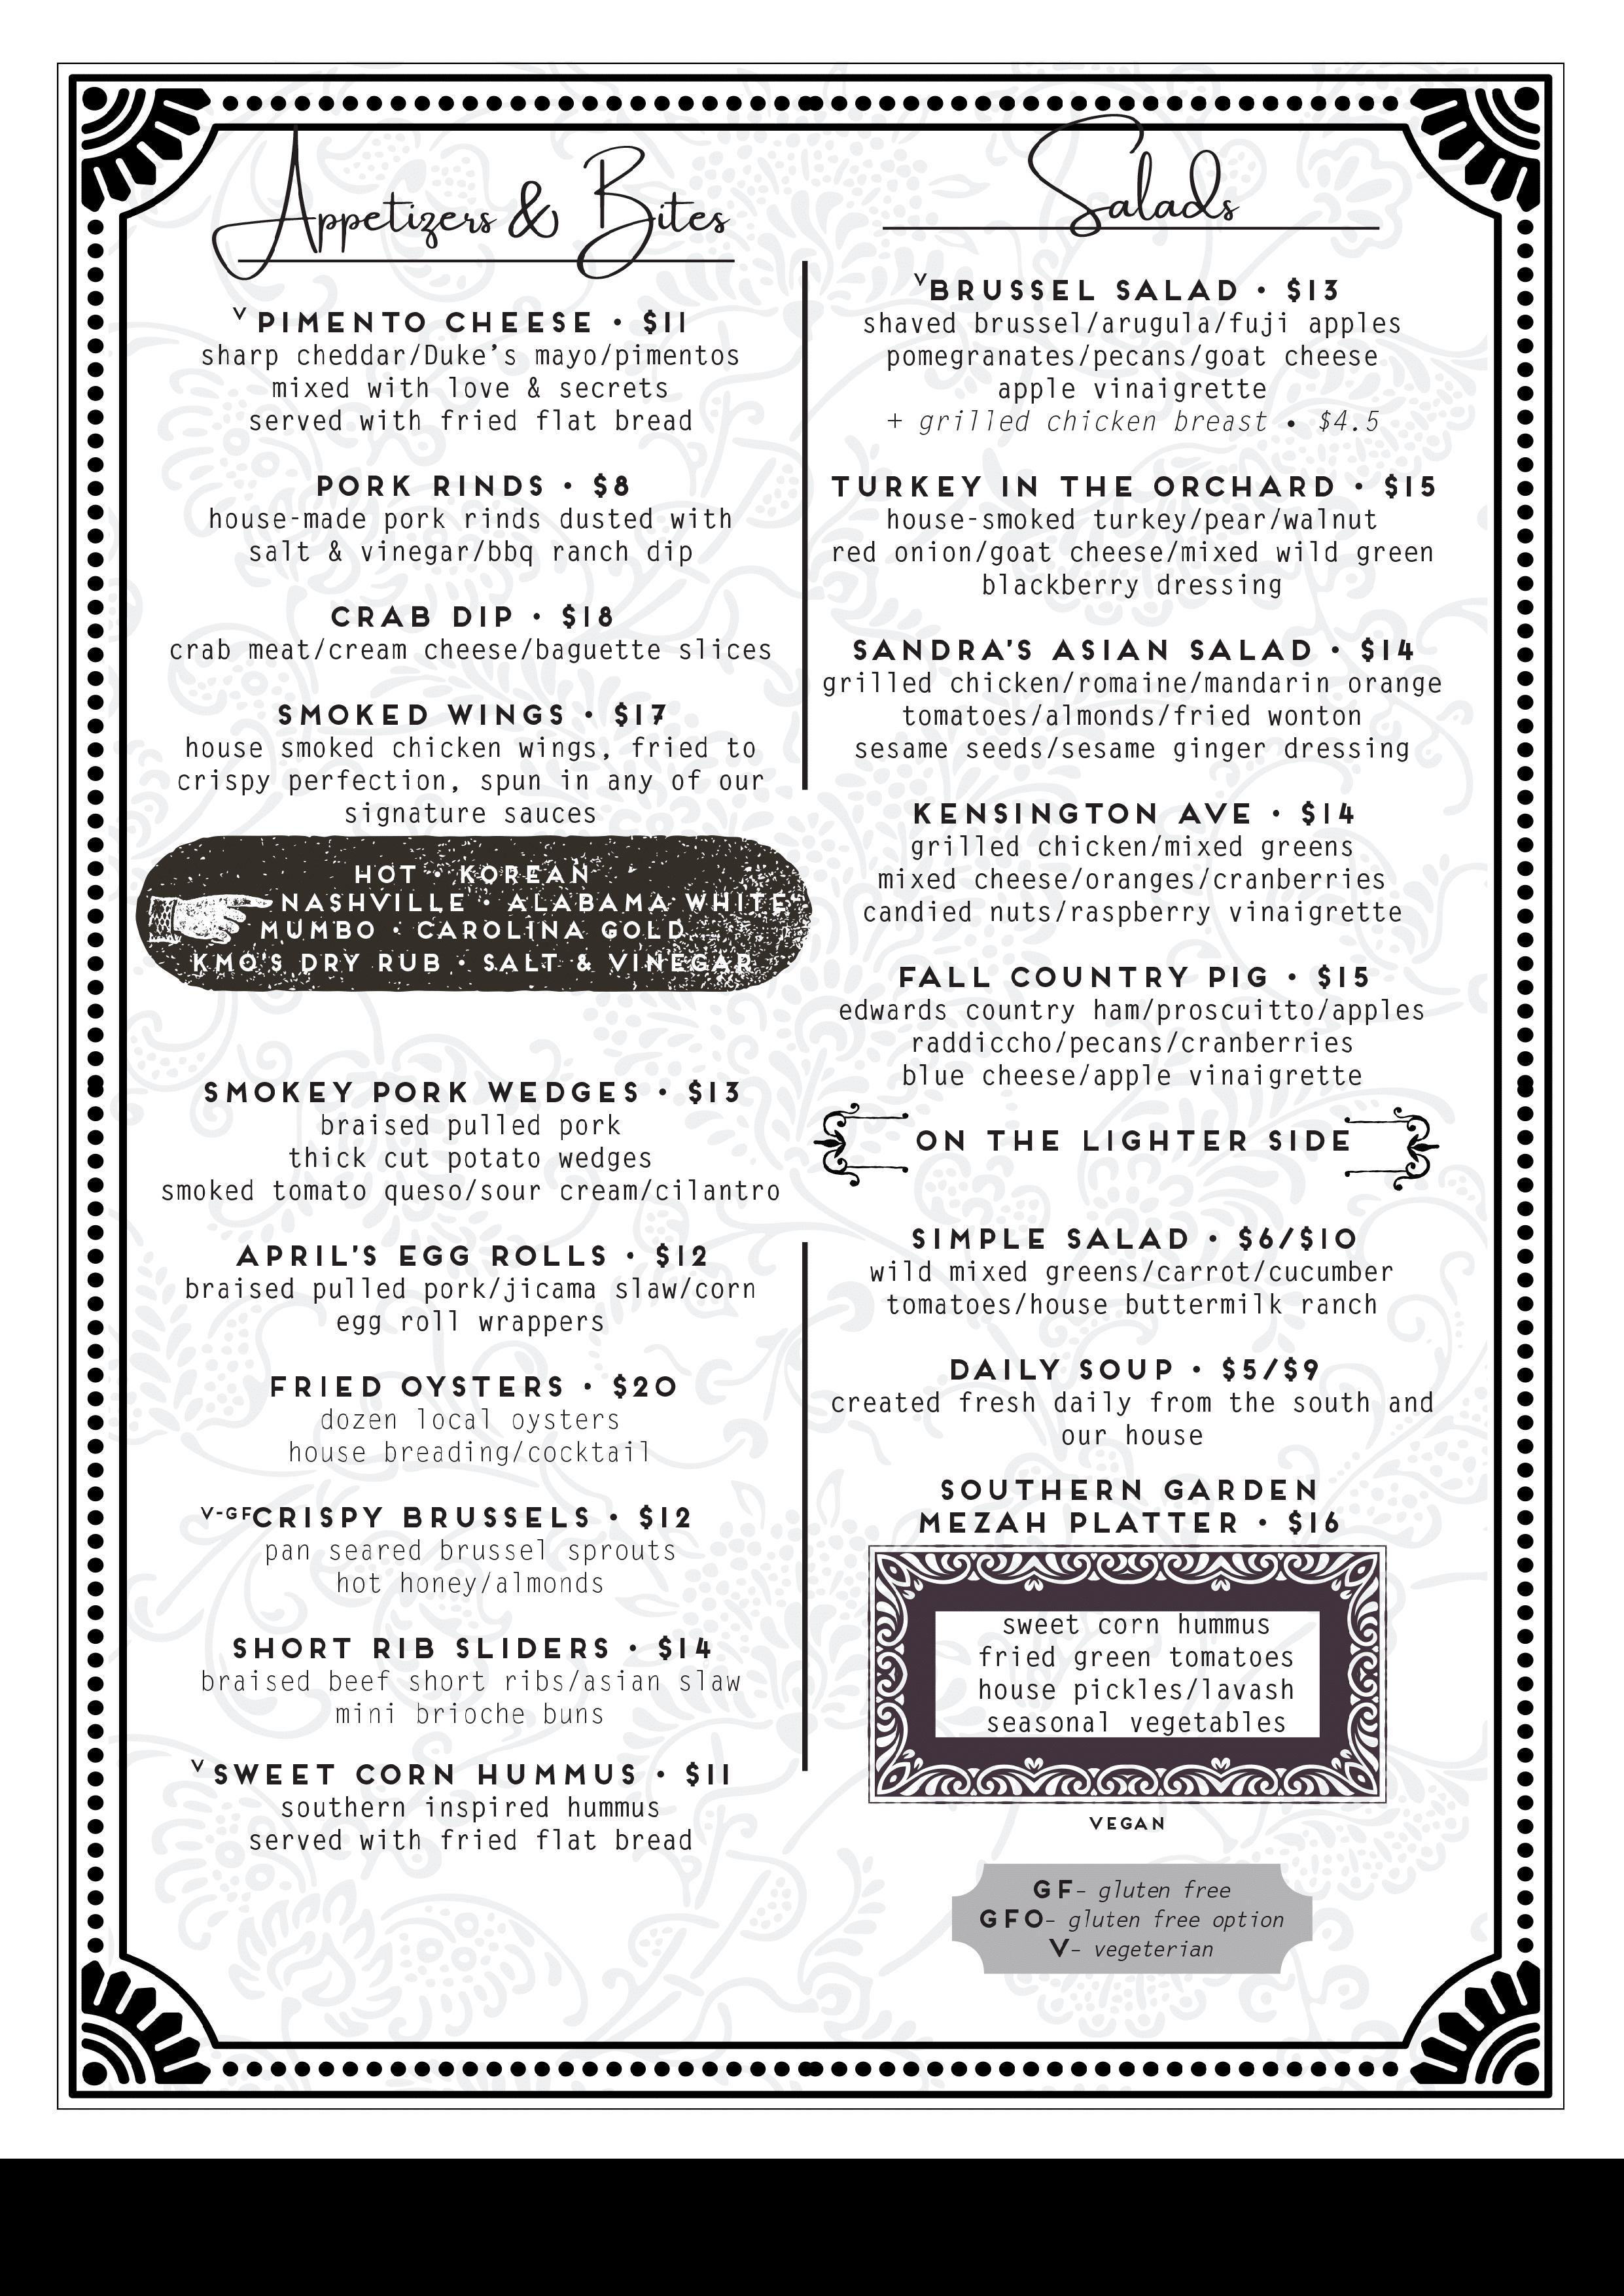description: (863, 306, 1406, 434), (824, 671, 1446, 764), (828, 506, 1438, 599), (160, 1114, 782, 1203), (178, 733, 768, 826), (838, 996, 1425, 1089), (863, 831, 1411, 928), (202, 341, 742, 432), (970, 1613, 1301, 1736), (185, 1274, 759, 1337), (831, 1390, 1441, 1448), (868, 1256, 1396, 1319), (209, 506, 733, 569), (202, 1667, 743, 1725), (244, 1795, 698, 1853), (286, 1405, 677, 1467), (264, 1539, 685, 1595), (169, 639, 773, 662)
item: (909, 1472, 1360, 1744), (856, 264, 1436, 439), (160, 1073, 789, 1210), (821, 469, 1450, 599), (821, 636, 1455, 764), (840, 959, 1431, 1094), (844, 792, 1411, 933), (174, 701, 773, 827), (199, 306, 747, 436), (828, 1354, 1445, 1448), (183, 1240, 763, 1339), (209, 467, 738, 573), (859, 1223, 1397, 1325), (211, 1758, 738, 1862), (197, 1630, 758, 1727), (253, 1502, 692, 1595), (269, 1372, 684, 1469), (167, 603, 779, 664)
price: (610, 1372, 677, 1400), (1359, 636, 1418, 666), (1287, 274, 1341, 304), (612, 703, 668, 731), (638, 309, 694, 337), (1316, 961, 1369, 991), (652, 1242, 712, 1268), (1287, 1507, 1339, 1537), (656, 1634, 715, 1660), (557, 604, 617, 631), (636, 1502, 691, 1530), (1301, 801, 1357, 827), (687, 1079, 742, 1105), (1383, 473, 1438, 497), (684, 1760, 733, 1787), (591, 471, 634, 499), (1236, 1224, 1274, 1253), (1218, 1358, 1260, 1381)
tittle: (916, 1476, 1348, 1542), (830, 474, 1336, 501), (852, 638, 1315, 664), (202, 1077, 638, 1103), (214, 1762, 642, 1788), (896, 963, 1271, 993), (232, 1634, 612, 1662), (234, 1242, 615, 1268), (912, 799, 1257, 827), (255, 307, 598, 336), (253, 1505, 591, 1532), (928, 276, 1239, 304), (910, 1224, 1190, 1254), (274, 703, 569, 726), (271, 1375, 564, 1398), (316, 473, 545, 499), (949, 1358, 1176, 1381), (329, 606, 517, 629)
